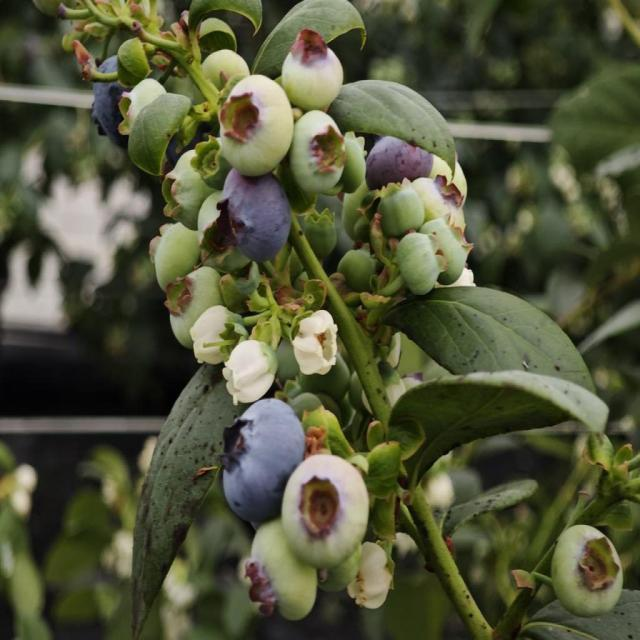RipeBlueBerry: (221, 399, 306, 522), (222, 172, 290, 262), (92, 57, 138, 142)
Semi-RipeBlueBerry: (366, 134, 440, 187)
UnripeBlueBerry: (283, 457, 373, 568), (219, 72, 295, 177), (246, 522, 318, 622), (551, 523, 623, 618), (294, 109, 346, 192)
